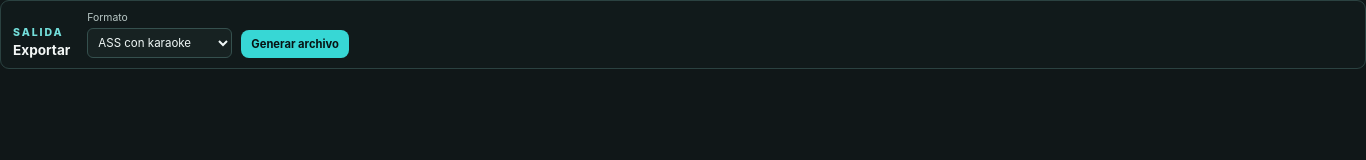
Test: export panel › surfaces job failures and does not claim a guessed percentage
Select "Video MP4" in the dropdown named "Formato de exportación" at point(160, 43), box top-left (87, 28), bottom-right (232, 58)
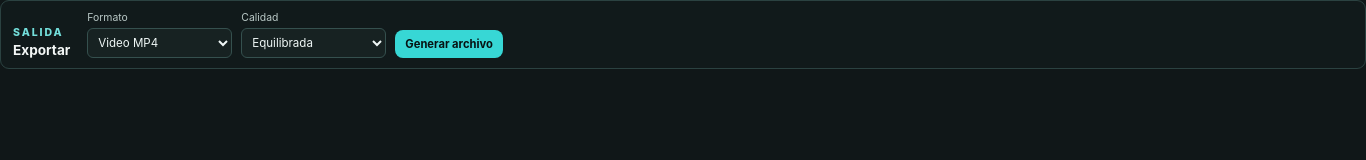
Click the button "Generar archivo" at point(449, 44), box top-left (395, 30), bottom-right (503, 58)
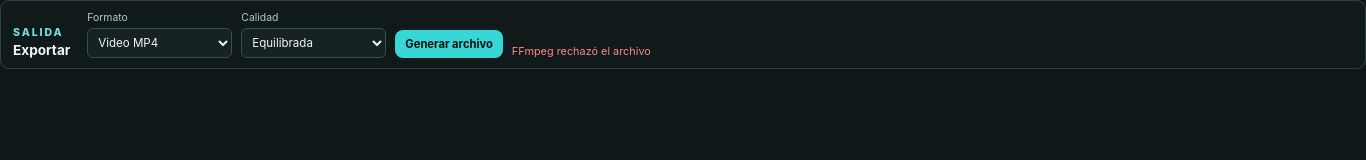
Check: the message reads "FFmpeg rechazó el archivo", box top-left (512, 44), bottom-right (651, 58)
